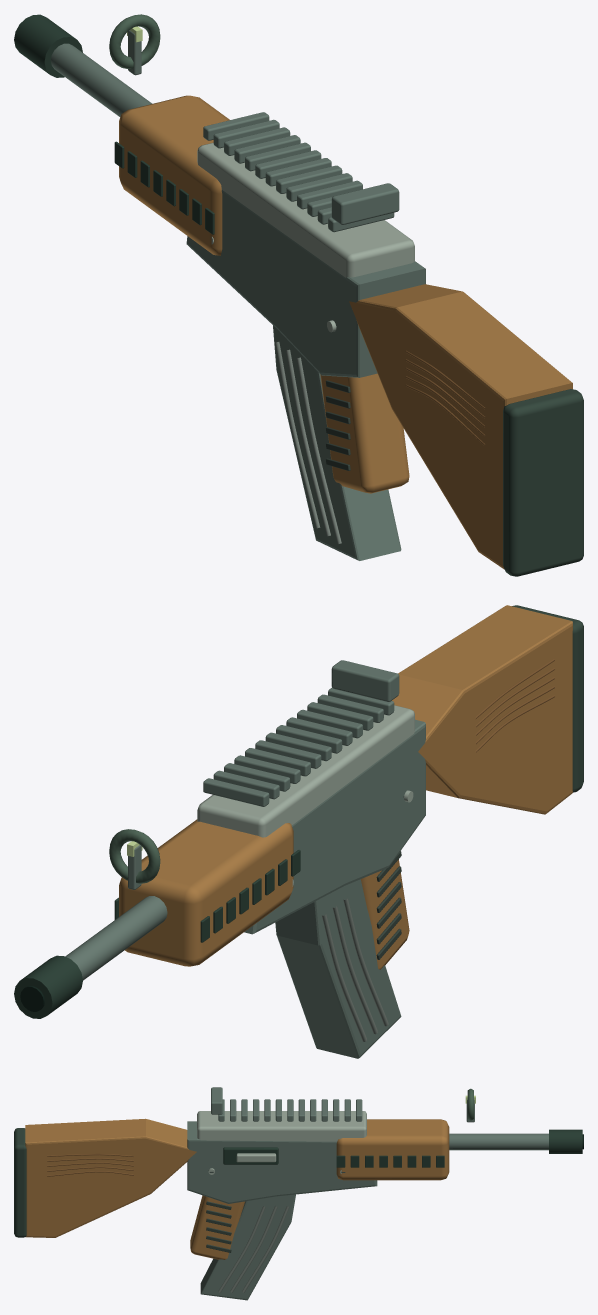
3 renders of one model, top to bottom at view 1: azimuth 30°, elevation 25°; view 2: azimuth 150°, elevation 25°; view 3: azimuth 270°, elevation 25°, orthographic. The views are drawn at different scales.
Parts seen in each view (by area): view 1: ak47, magazine; view 2: ak47, magazine; view 3: ak47, magazine, bolt.
Boxes of the visible parts, bbox=[...] form: ak47: bbox=[14, 14, 583, 576]; magazine: bbox=[273, 325, 401, 560]; ak47: bbox=[14, 605, 583, 1018]; magazine: bbox=[275, 879, 401, 1058]; ak47: bbox=[14, 1087, 583, 1259]; magazine: bbox=[200, 1194, 295, 1300]; bolt: bbox=[223, 1147, 278, 1164].
Size of the model in its own units: 0.1485 by 0.5724 by 1.44.
